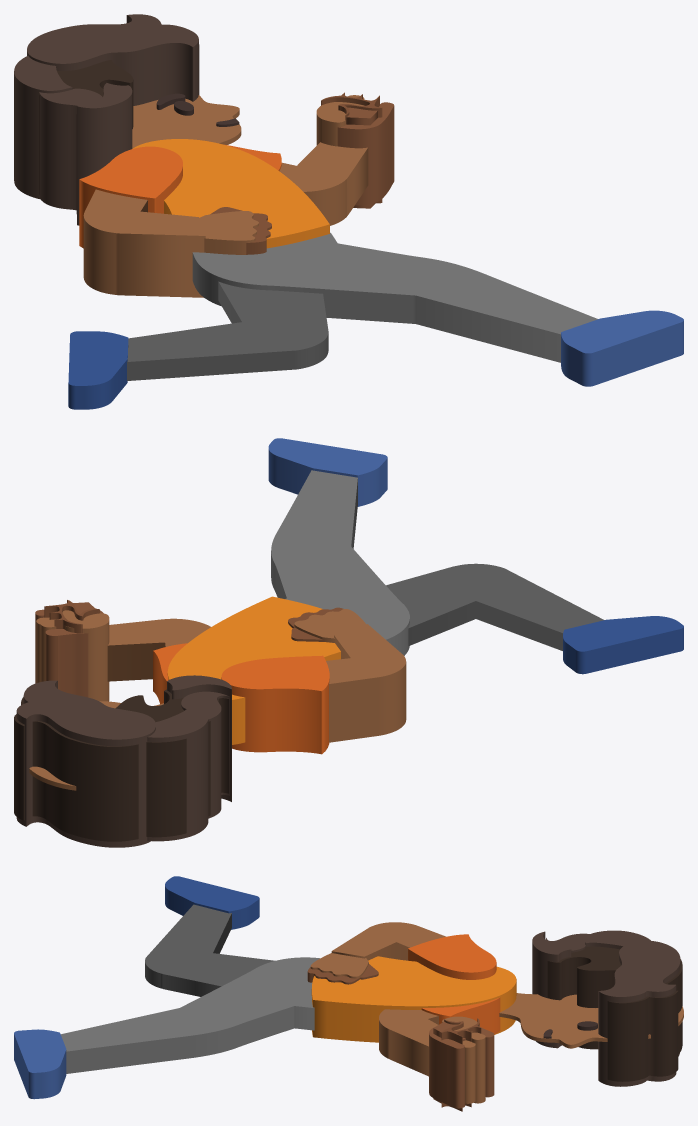
The model's file is emoji_u1f3c3_1f3fe_200d_27a1.glb.
3 renders of one model, top to bottom at view 1: azimuth 30°, elevation 25°; view 2: azimuth 150°, elevation 25°; view 3: azimuth 270°, elevation 25°, orthographic. The views are drawn at different scales.
Parts seen in each view (by area): view 1: emoji_u1f3c3_1f3fe_200d_27a1; view 2: emoji_u1f3c3_1f3fe_200d_27a1; view 3: emoji_u1f3c3_1f3fe_200d_27a1.
Part boxes in pixels (x1,y1,x2,y2): emoji_u1f3c3_1f3fe_200d_27a1: (14,14,683,409); emoji_u1f3c3_1f3fe_200d_27a1: (14,438,683,847); emoji_u1f3c3_1f3fe_200d_27a1: (14,876,683,1111).
Bounding box in the file's own units: 0.023 × 0.005 × 0.0325.
